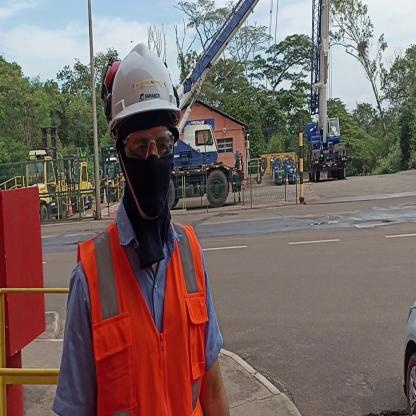Balaclava: (119, 119, 178, 241)
Capacete: (108, 40, 183, 115)
colete: (80, 229, 212, 416)
